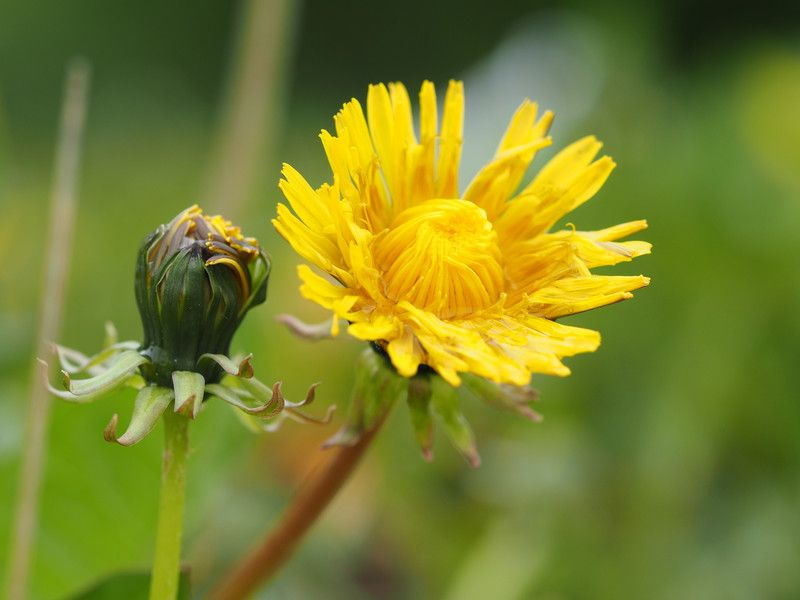begonvil: (264, 59, 645, 452), (61, 167, 307, 484)
